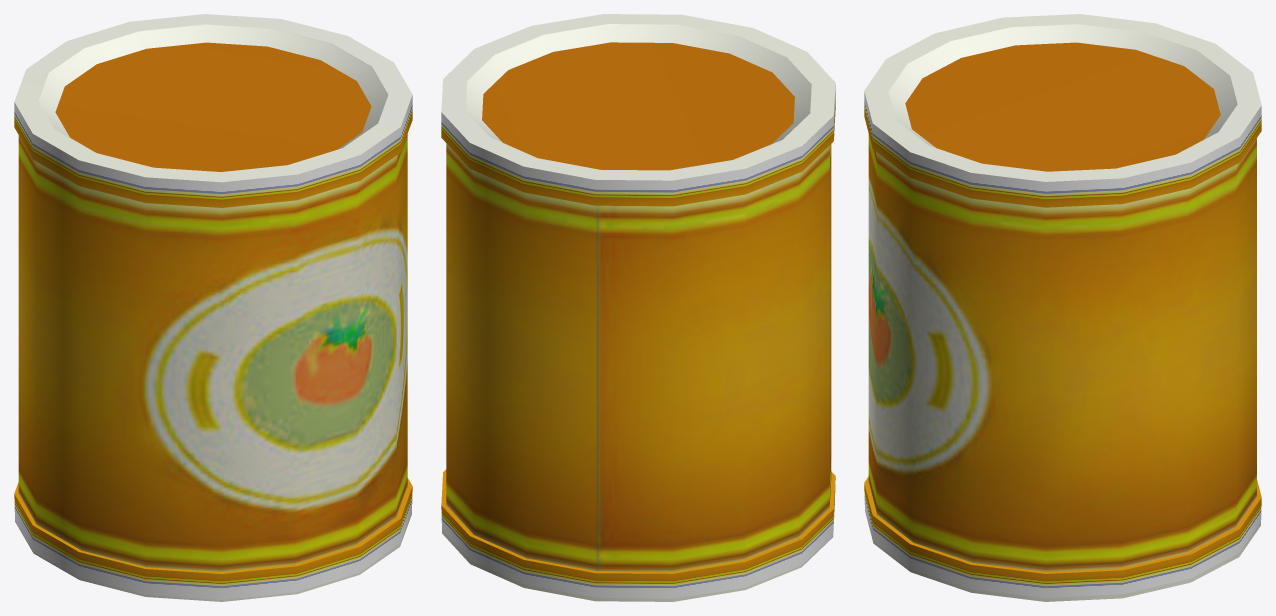
The picture shows the model from 3 angles, left to right: view 1: azimuth 30°, elevation 25°; view 2: azimuth 150°, elevation 25°; view 3: azimuth 270°, elevation 25°; orthographic projection.
Visible parts, largest first — view 1: 1-4; view 2: 1-4; view 3: 1-4.
Boxes of the visible parts, x1,y1,x2,y2 form: 1-4: (14,14,412,601); 1-4: (441,14,835,601); 1-4: (864,14,1261,601).
Bounding box in the file's own units: 8.38 × 9.78 × 8.38.
